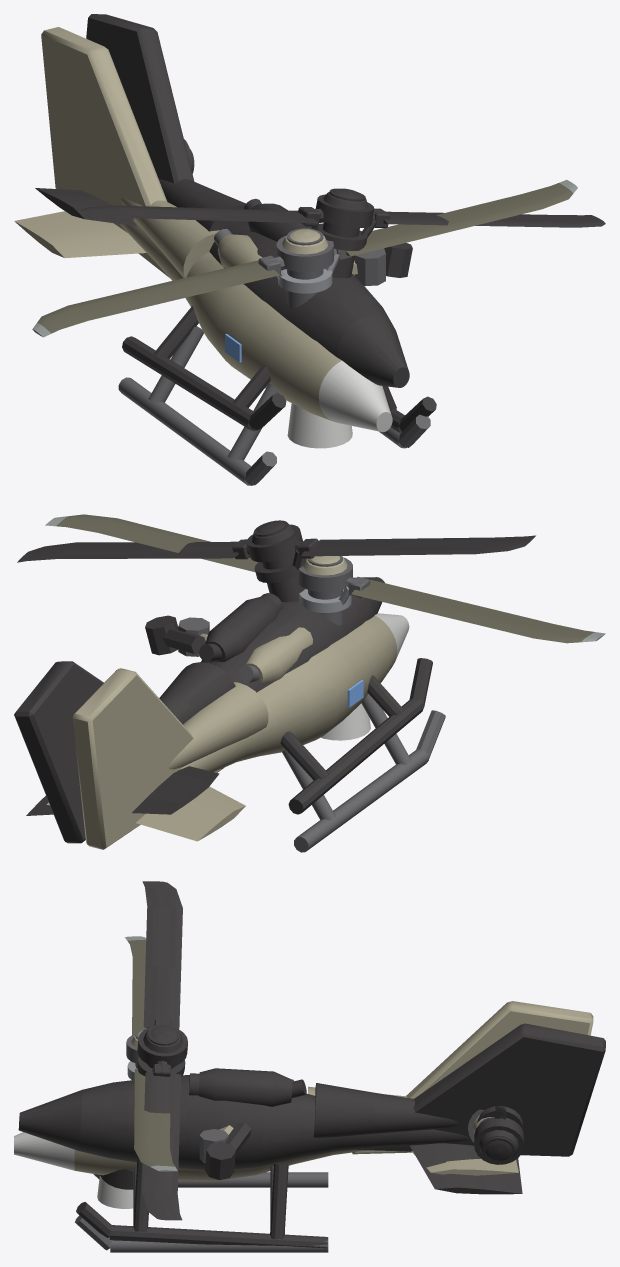
File: carrierDrone__peregrine_s100.glb
3 renders of one model, top to bottom at view 1: azimuth 30°, elevation 25°; view 2: azimuth 150°, elevation 25°; view 3: azimuth 270°, elevation 25°, orthographic. The views are drawn at different scales.
Visible parts, largest first — view 1: Wreck, Fuselage_Mesh, Rotor_Main_Mesh, Landing_Gear_Mesh, Radar_Mesh, Engines_Mesh, Naval_Mission_Kit_Mesh; view 2: Wreck, Fuselage_Mesh, Rotor_Main_Mesh, Landing_Gear_Mesh, Engines_Mesh, Radar_Mesh, Naval_Mission_Kit_Mesh; view 3: Wreck, Fuselage_Mesh, Rotor_Main_Mesh, Landing_Gear_Mesh, Radar_Mesh, Naval_Mission_Kit_Mesh.
Part boxes in pixels (x1,y1,x2,y2): Wreck: (35,14,605,433); Fuselage_Mesh: (14,27,392,431); Rotor_Main_Mesh: (32,180,577,337); Landing_Gear_Mesh: (118,326,430,485); Radar_Mesh: (287,403,352,448); Engines_Mesh: (214,228,262,267); Naval_Mission_Kit_Mesh: (352,248,385,286); Wreck: (14,520,535,843); Fuselage_Mesh: (46,613,409,849); Rotor_Main_Mesh: (45,514,605,643); Landing_Gear_Mesh: (221,694,445,852); Engines_Mesh: (238,627,312,683); Radar_Mesh: (321,703,370,740); Naval_Mission_Kit_Mesh: (178,617,209,656); Wreck: (18,881,605,1251); Fuselage_Mesh: (14,1001,593,1181); Rotor_Main_Mesh: (125,936,177,1171); Landing_Gear_Mesh: (75,1166,328,1252); Radar_Mesh: (97,1176,133,1208); Naval_Mission_Kit_Mesh: (199,1125,233,1163).
Size of what is drawn, in the model's own units: 3.57 by 1.68 by 3.63.
